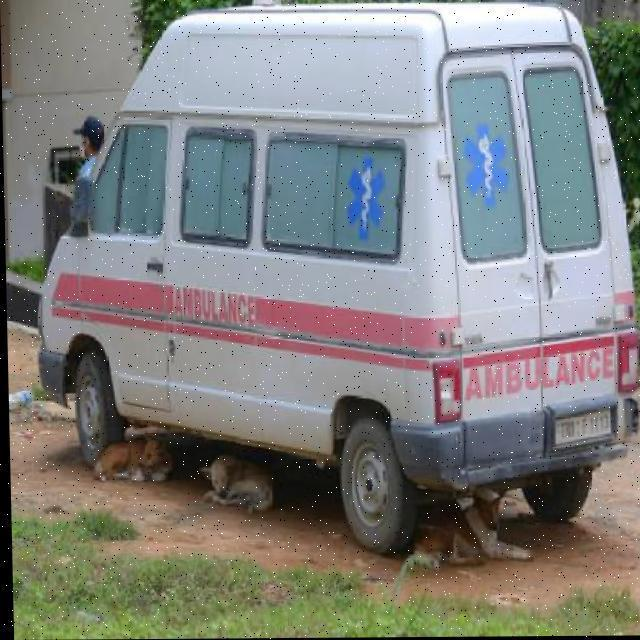Ambulance: (22, 0, 640, 565), (5, 291, 640, 630), (60, 113, 108, 238), (191, 451, 277, 518)
